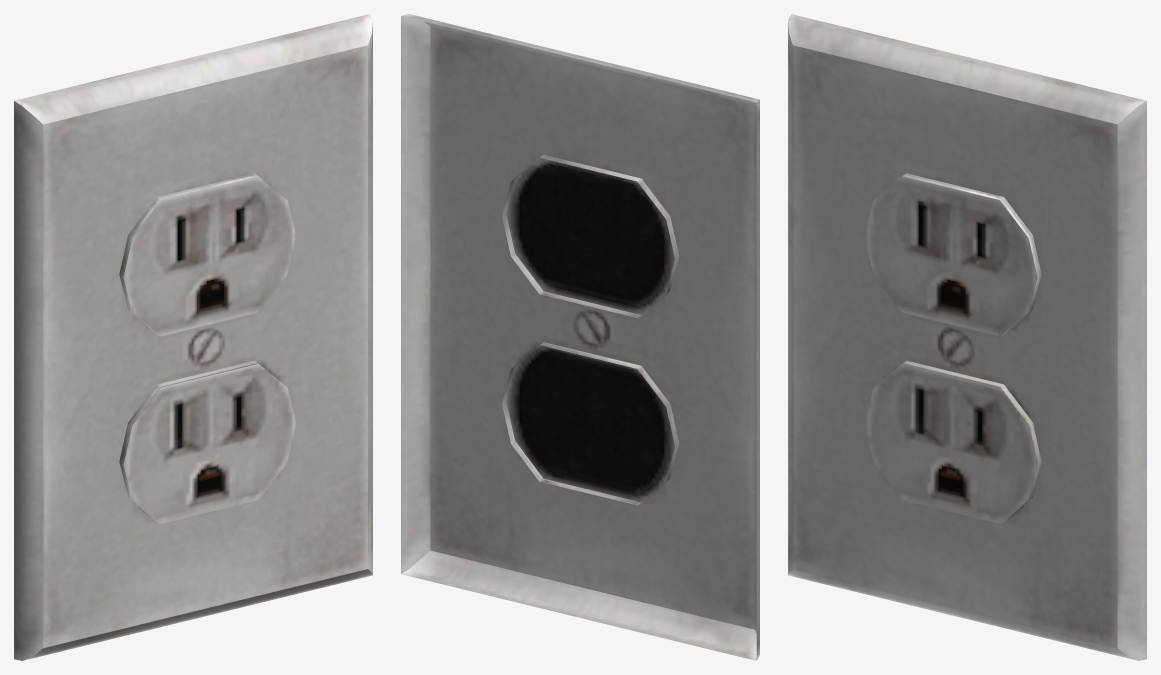
The model's file is power_outlet.dae.
3 views of the same model, side by side, from view 1: azimuth 30°, elevation 25°; view 2: azimuth 150°, elevation 25°; view 3: azimuth 330°, elevation 25° (orthographic).
Parts seen in each view (by area): view 1: power_outlet; view 2: power_outlet; view 3: power_outlet.
Boxes of the visible parts, x1,y1,x2,y2 form: power_outlet: (14, 14, 372, 660); power_outlet: (401, 14, 759, 660); power_outlet: (788, 14, 1146, 660).
Size of the model in its own units: 15.02 by 22.52 by 1.32.
